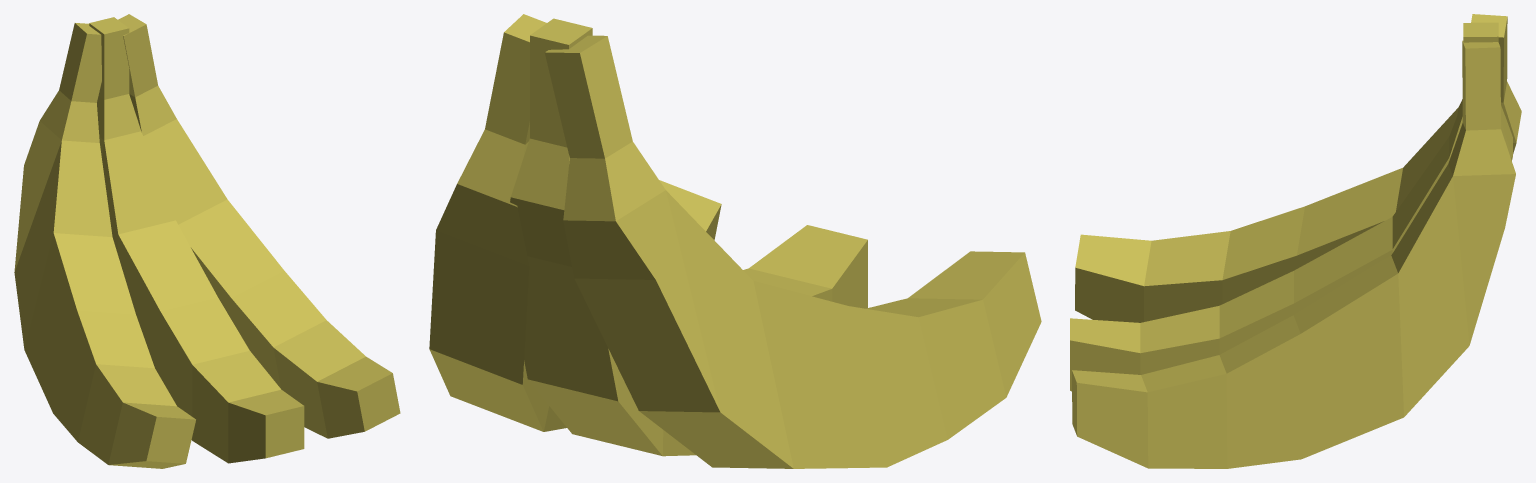
The model's file is banana.fbx.
The picture shows the model from 3 angles, left to right: view 1: azimuth 30°, elevation 25°; view 2: azimuth 150°, elevation 25°; view 3: azimuth 270°, elevation 25°; orthographic projection. The views are drawn at different scales.
Parts seen in each view (by area): view 1: banana6; view 2: banana6; view 3: banana6.
Boxes of the visible parts, <box> form: banana6: <box>14,14,400,468</box>; banana6: <box>429,14,1041,468</box>; banana6: <box>1070,14,1521,468</box>.
Bounding box in the file's own units: 18.57 × 21.79 × 23.24.
